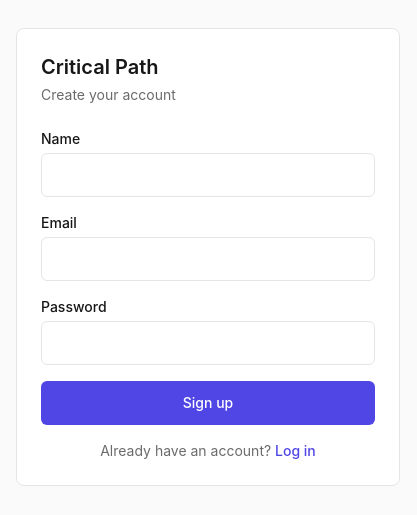
Signup › refuses a password under eight characters without asking the server
The image size is (417, 515).
Type "Ada" into the field labelled "Name".
click(208, 175); type("Ada")  # box [41,153,375,197]
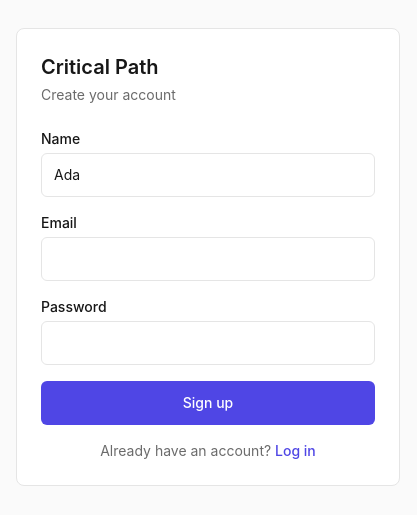
Type "ada@example.com" into the field labelled "Email".
click(208, 259); type("ada@example.com")  # box [41,237,375,281]
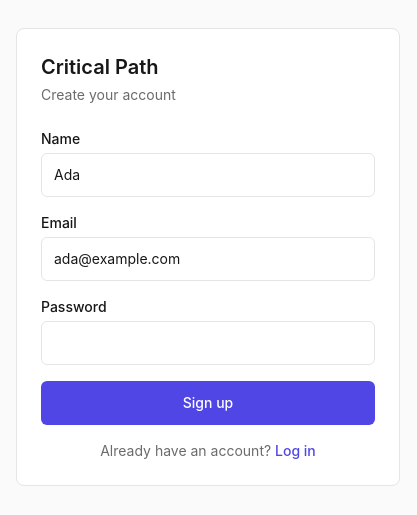
Type "short" into the password field labelled "Password".
click(208, 343); type("short")  # box [41,321,375,365]
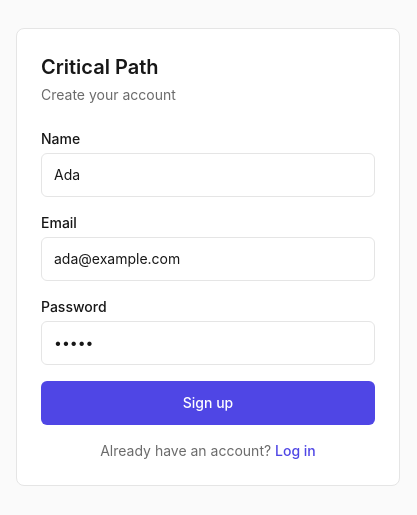
Click the button "Sign up".
click(208, 403)  # box [41,381,375,425]
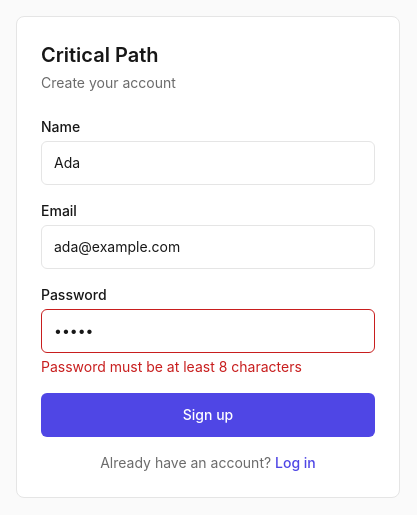
Check: the text "Password must be at least 8 characters" is shown, box [41,358,302,375]
